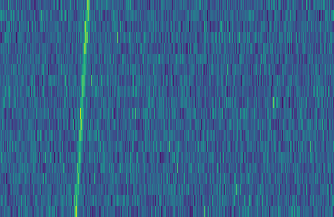signal: (69, 0, 91, 217)
